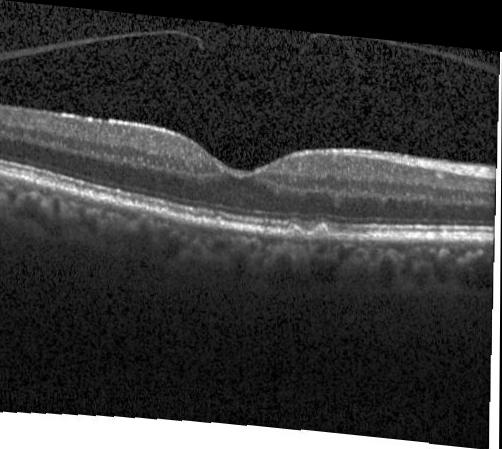retinal_drusen: (286, 218, 303, 230), (315, 218, 329, 230), (215, 212, 222, 224)
vitreous_detachment: (313, 27, 497, 64), (0, 27, 204, 60)
